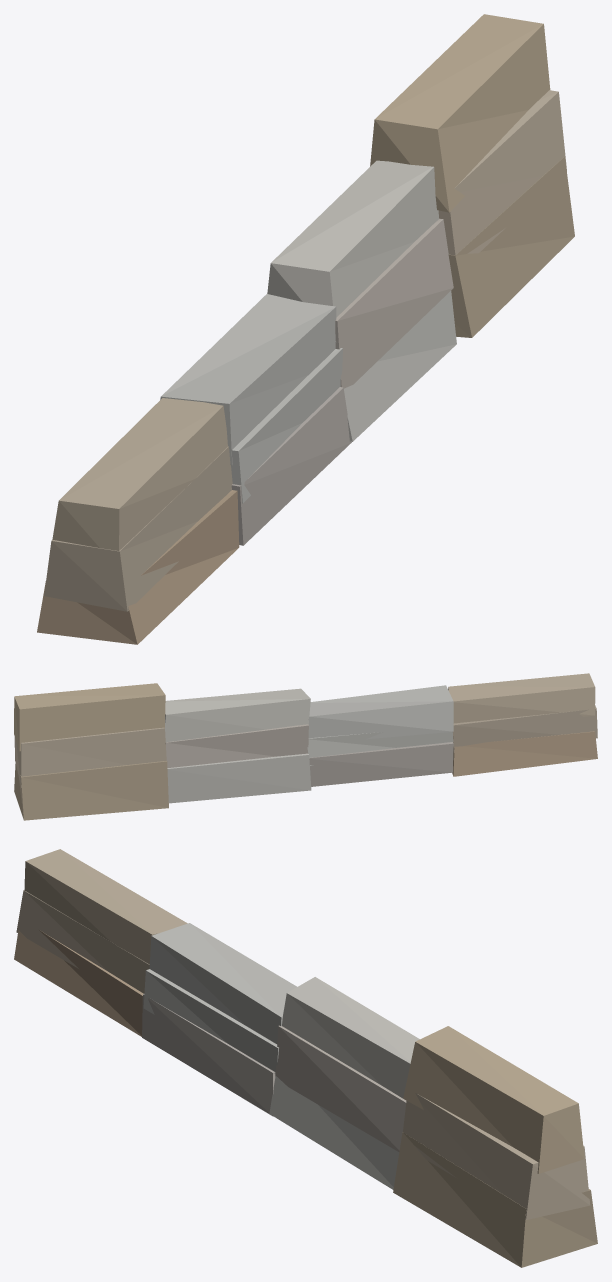
The model's file is farm_15_34_mid.glb.
3 renders of one model, top to bottom at view 1: azimuth 30°, elevation 25°; view 2: azimuth 150°, elevation 25°; view 3: azimuth 270°, elevation 25°, orthographic. The views are drawn at different scales.
Visible parts, largest first — view 1: geometry_0; view 2: geometry_0; view 3: geometry_0.
Part boxes in pixels (x1=…): geometry_0: x1=37, y1=14, x2=574, y2=644; geometry_0: x1=14, y1=673, x2=597, y2=820; geometry_0: x1=14, y1=849, x2=597, y2=1267.
Bounding box in the file's own units: 5.35 × 1.31 × 4.44.
